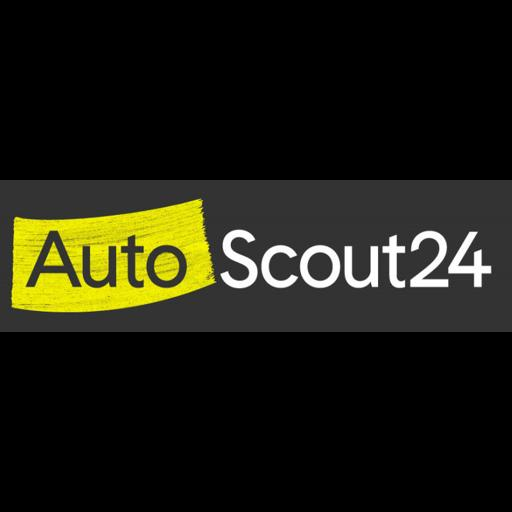AutoScout24: (0, 180, 512, 332)
